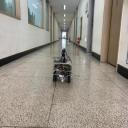cart: (52, 60, 72, 84)
